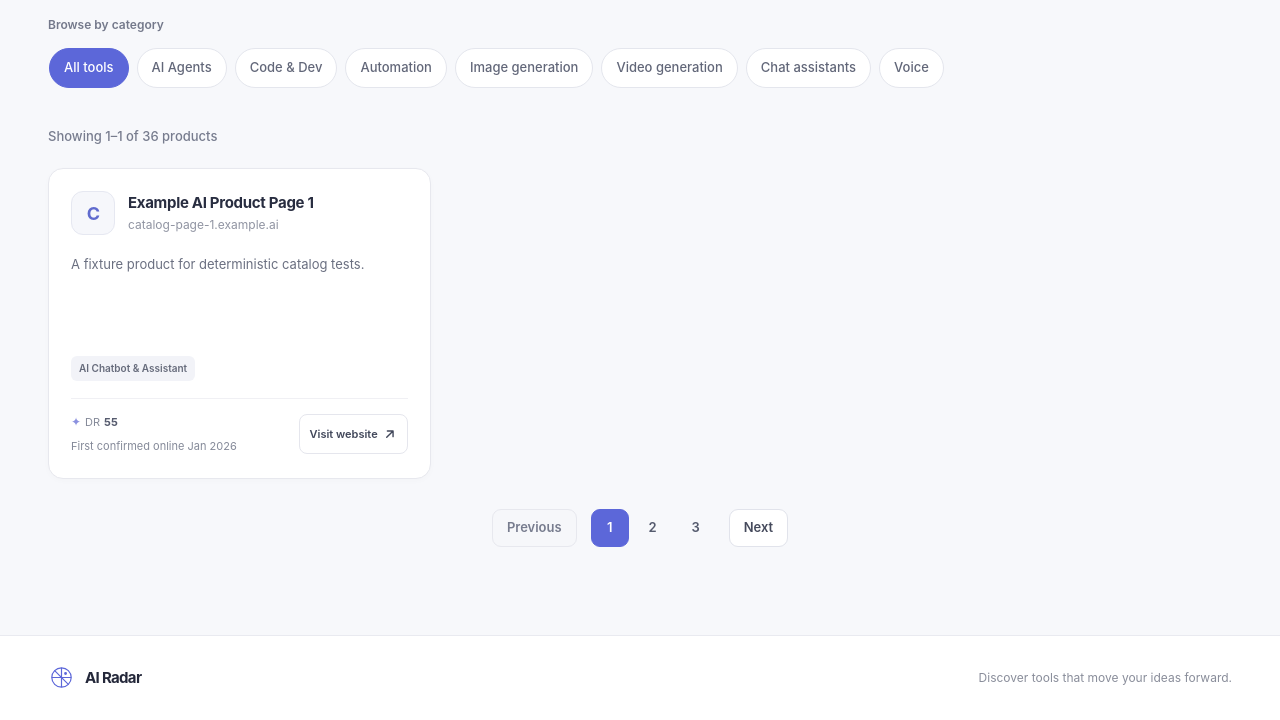
Test: AI Radar catalog › moves between result pages and updates the URL
(page scrolled)
Expected: the element with test id "pagination-next" is enabled
Click the button with test id "pagination-next" at (759, 528), box [729,509,789,547]
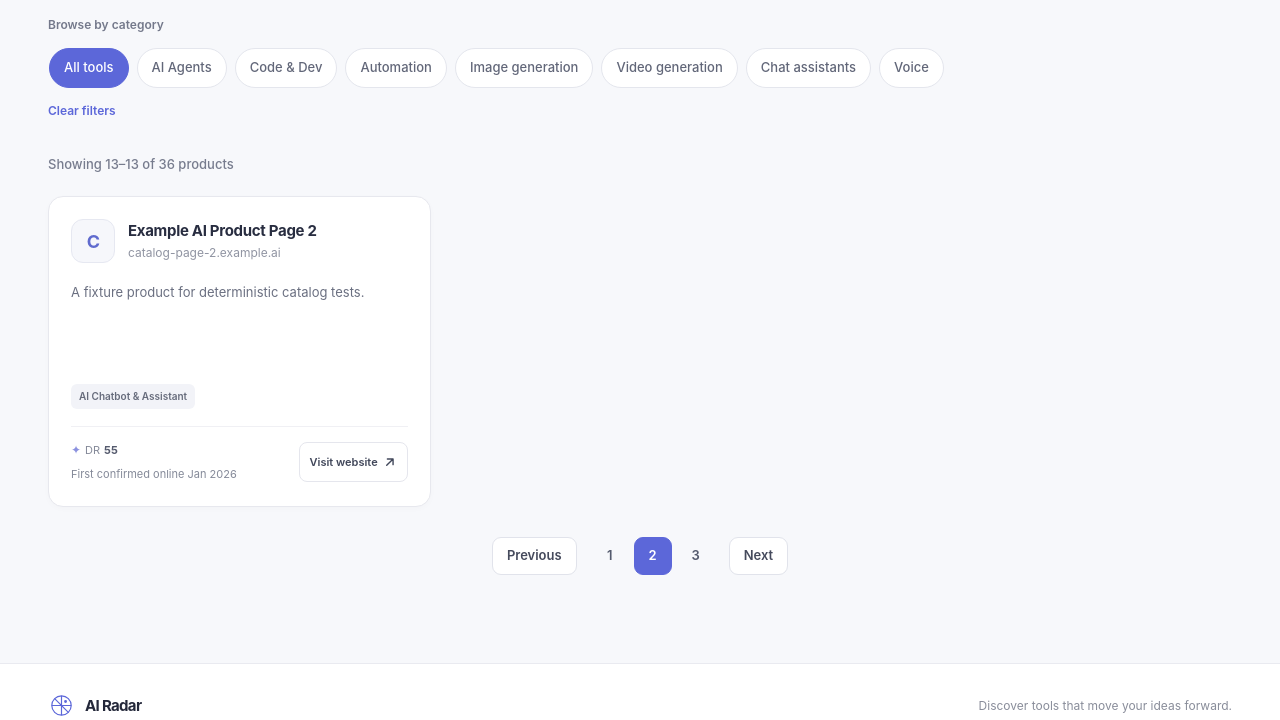
Expected: the element with test id "pagination-previous" is enabled
Now the heading with test id "site-card" shows "Page 2", box [128,221,317,240]
Click the button with test id "pagination-previous" at (535, 556), box [492,537,577,575]
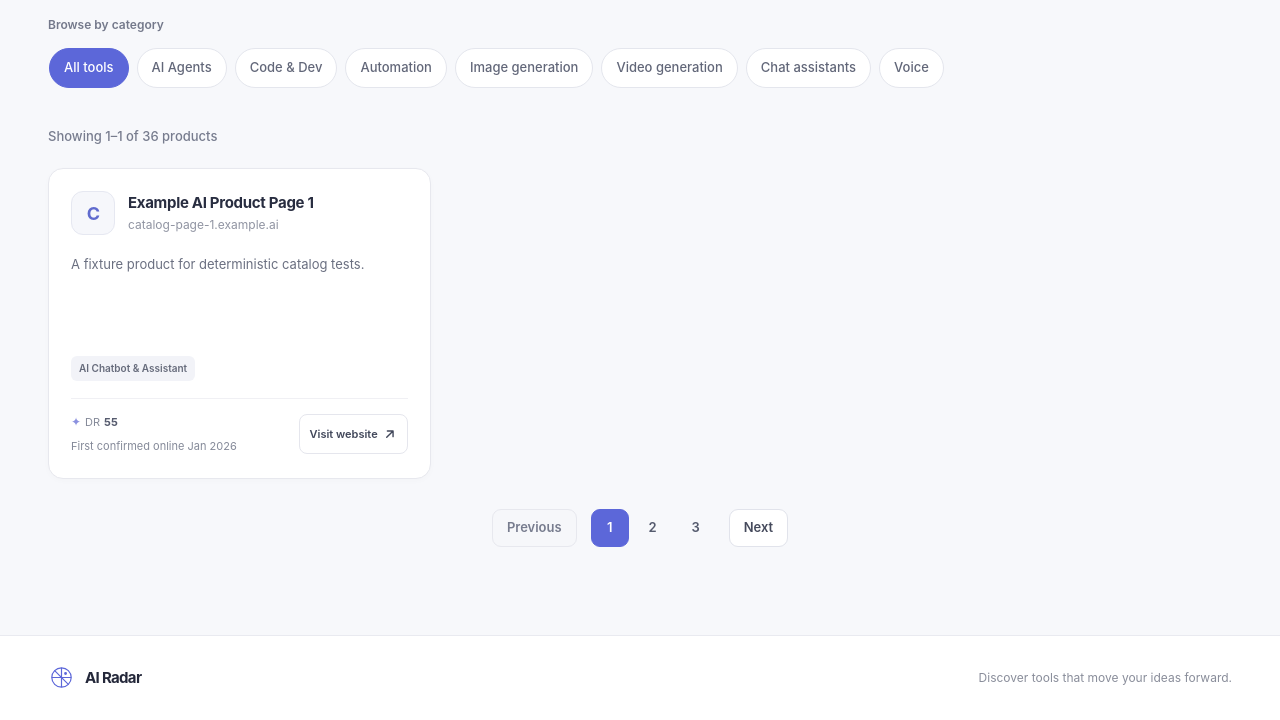
Now the heading with test id "site-card" shows "Page 1", box [128,193,314,212]
